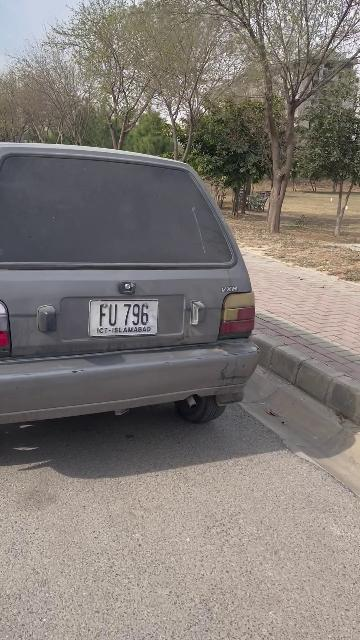plate: (89, 300, 159, 336)
